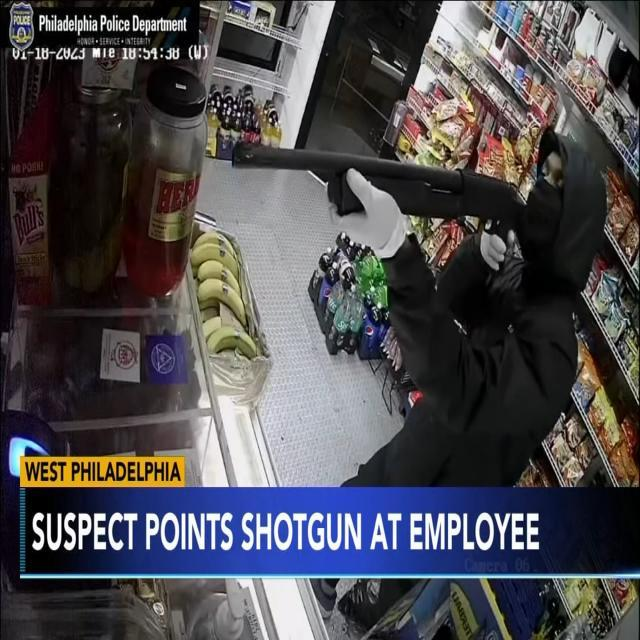Gun: (230, 137, 520, 266)
